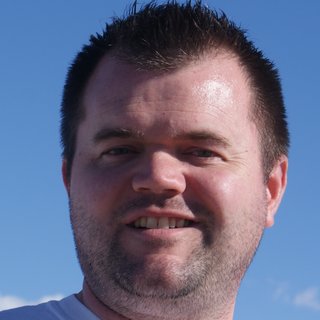eye: (180, 140, 225, 165), (94, 141, 142, 161)
